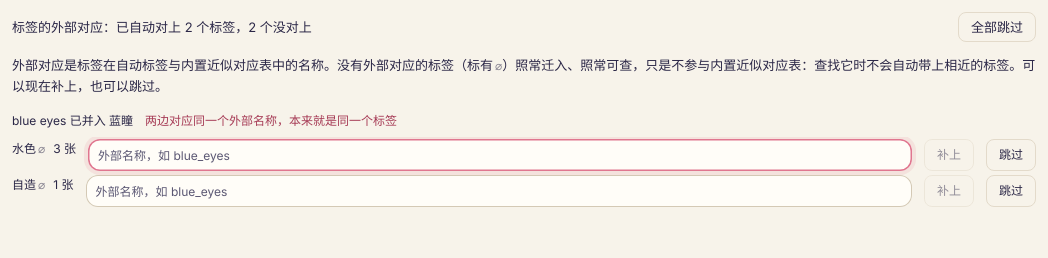
Test: 迁入向导：标签的外部对应 › 用 ↓ 高亮一个候选再回车，只补上这一个，不再另按输入补一次
In the dropdown named "水色 的外部对应": (500, 155) [98,139,902,171], type "aqua"
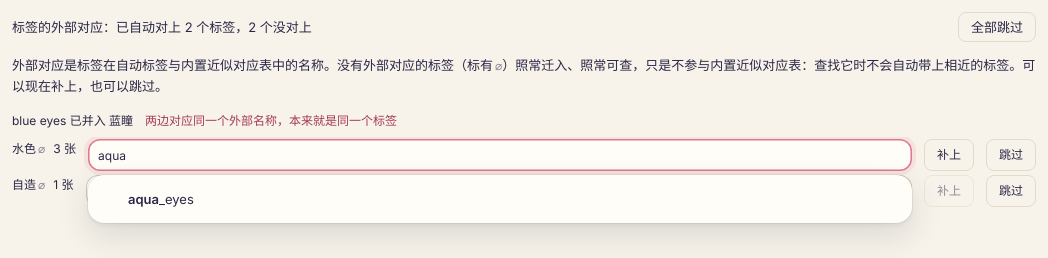
Now the option "aqua_eyes" is shown, box [128,191,194,207]
Press ArrowDown in the dropdown named "水色 的外部对应", box [98,139,902,171]
Press Enter in the dropdown named "水色 的外部对应", box [98,139,902,171]
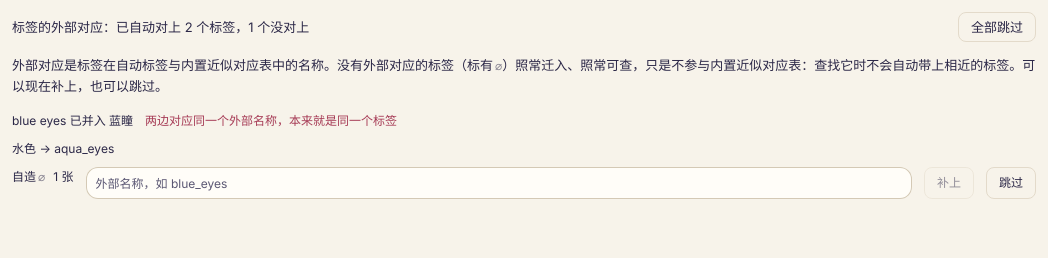
Now the text "水色 → aqua_eyes" is shown, box [12,139,114,159]
